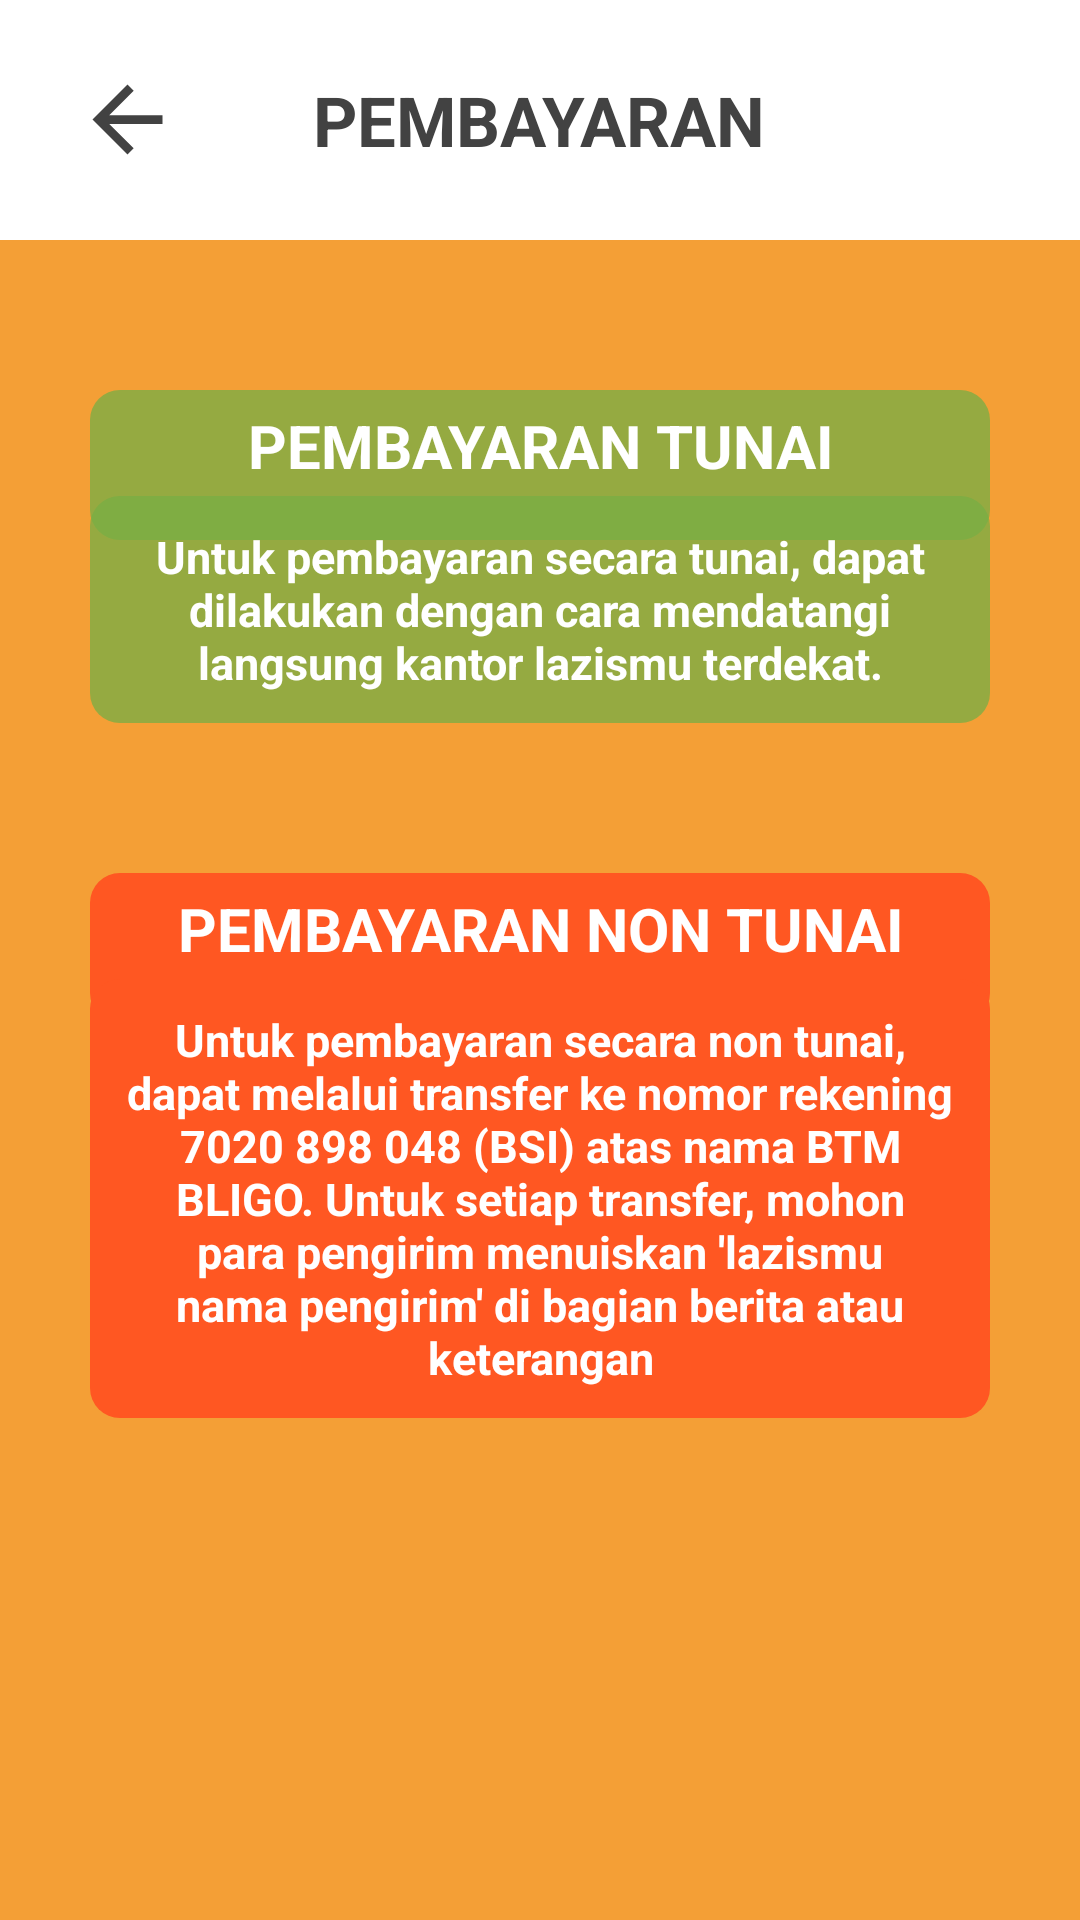

Icons on this 1080x1920 Android screen, each with its box as (x1, y1, x2, y2):
kembaliicondark: (92, 84, 163, 155)
